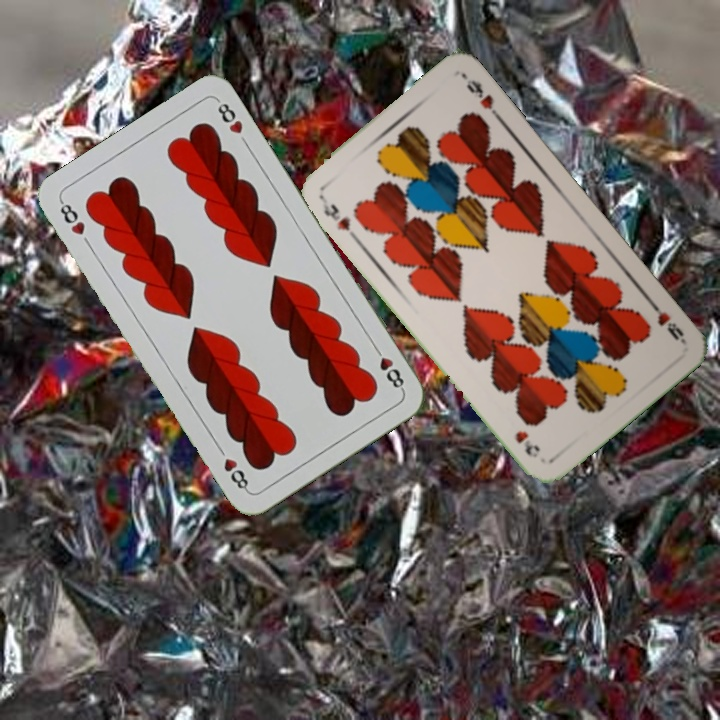H8: (368, 340, 407, 393), (56, 196, 88, 238)
H9: (644, 296, 688, 346), (315, 191, 359, 241)
